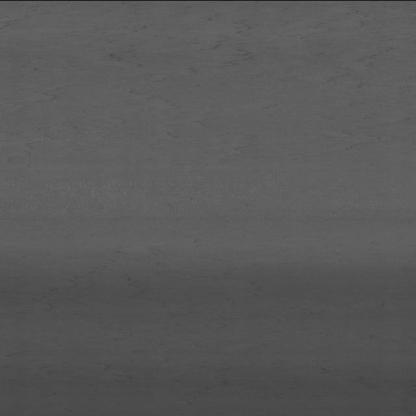silk_spot: (86, 27, 383, 117)
